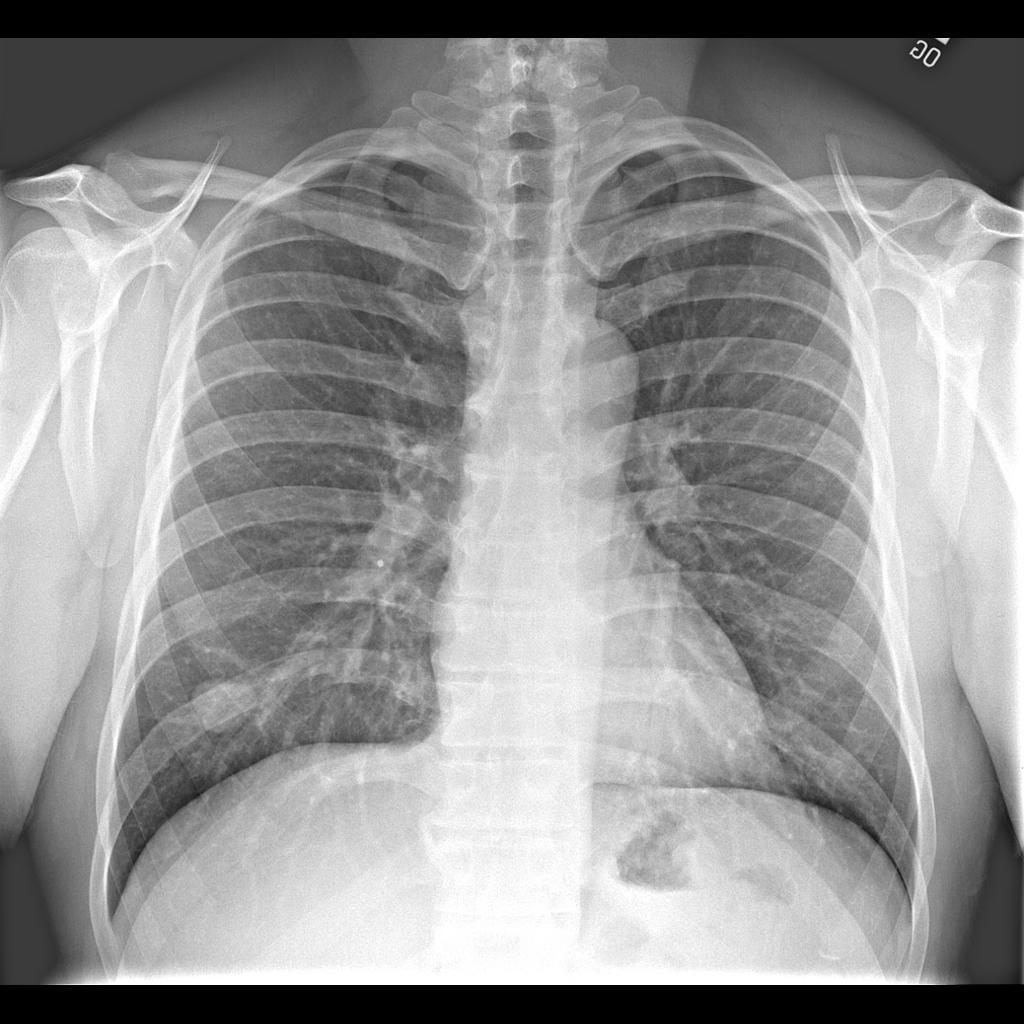Nodule: (189, 674, 260, 744)
